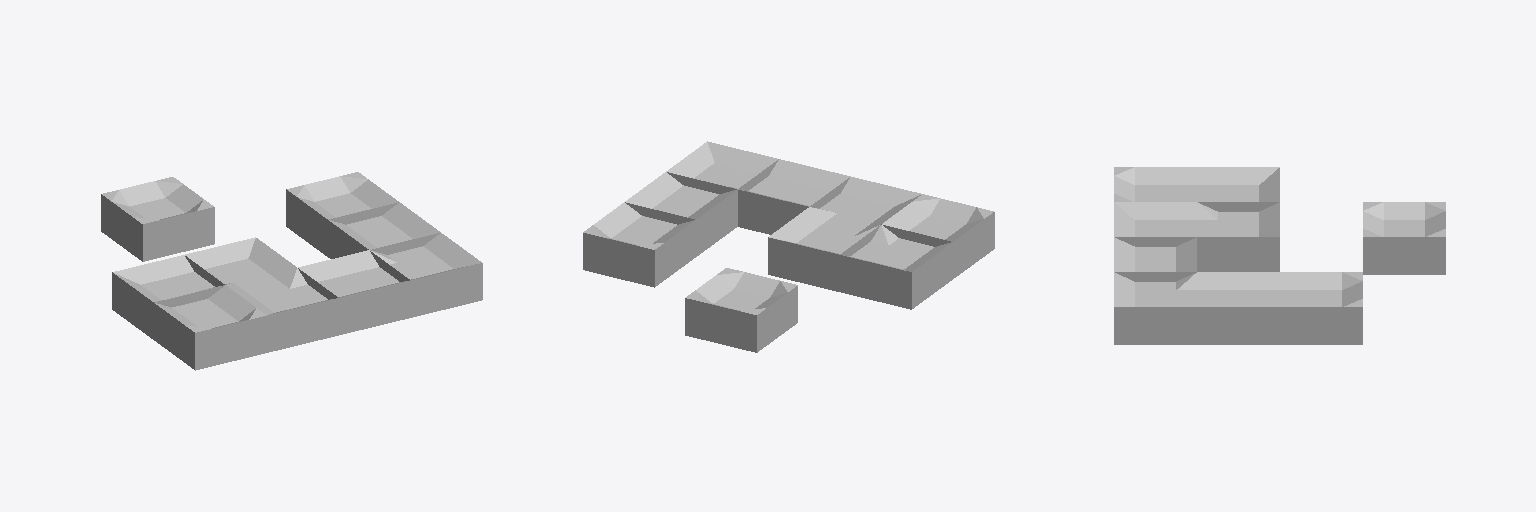
File: 49f_path.obj
The picture shows the model from 3 angles: view 1: azimuth 30°, elevation 25°; view 2: azimuth 150°, elevation 25°; view 3: azimuth 270°, elevation 25°; orthographic projection.
Visible parts, largest first — view 1: foil.hole.1.3_Cube.249, foil.ending.0.0_ending.495, foil.through.2.0_through.262, foil.corner.3.0_corner.1225, foil.corner.1.0_corner.1223, foil.corner.0.1_corner.1222, foil.ending.3.2_ending.496, foil.through.3.1_through.263, foil.corner.1.1_corner.1224; view 2: foil.hole.1.3_Cube.249, foil.corner.0.1_corner.1222, foil.ending.3.2_ending.496, foil.corner.1.1_corner.1224, foil.through.2.0_through.262, foil.through.3.1_through.263, foil.ending.0.0_ending.495, foil.corner.1.0_corner.1223, foil.corner.3.0_corner.1225; view 3: foil.hole.1.3_Cube.249, foil.through.3.1_through.263, foil.ending.3.2_ending.496, foil.corner.1.1_corner.1224, foil.corner.3.0_corner.1225, foil.through.2.0_through.262, foil.corner.1.0_corner.1223, foil.ending.0.0_ending.495, foil.corner.0.1_corner.1222.
Part boxes in pixels (x1,y1,x2,y2): foil.hole.1.3_Cube.249: (101, 177, 214, 261); foil.ending.0.0_ending.495: (154, 285, 266, 370); foil.through.2.0_through.262: (298, 250, 410, 334); foil.corner.3.0_corner.1225: (370, 233, 482, 317); foil.corner.1.0_corner.1223: (226, 268, 338, 352); foil.corner.0.1_corner.1222: (112, 255, 224, 339); foil.ending.3.2_ending.496: (286, 172, 398, 256); foil.through.3.1_through.263: (328, 202, 440, 258); foil.corner.1.1_corner.1224: (185, 237, 296, 289); foil.hole.1.3_Cube.249: (685, 268, 797, 352); foil.corner.0.1_corner.1222: (840, 224, 952, 309); foil.ending.3.2_ending.496: (583, 202, 695, 287); foil.corner.1.1_corner.1224: (768, 207, 880, 291); foil.through.2.0_through.262: (738, 159, 850, 234); foil.through.3.1_through.263: (625, 172, 737, 256); foil.ending.0.0_ending.495: (882, 194, 994, 278); foil.corner.1.0_corner.1223: (810, 177, 921, 228); foil.corner.3.0_corner.1225: (666, 141, 777, 189); foil.hole.1.3_Cube.249: (1363, 202, 1445, 274); foil.through.3.1_through.263: (1197, 272, 1279, 344); foil.ending.3.2_ending.496: (1280, 272, 1362, 344); foil.corner.1.1_corner.1224: (1197, 202, 1279, 271); foil.corner.3.0_corner.1225: (1114, 272, 1196, 344); foil.through.2.0_through.262: (1114, 237, 1196, 281); foil.corner.1.0_corner.1223: (1114, 202, 1196, 246); foil.ending.0.0_ending.495: (1114, 167, 1196, 201); foil.corner.0.1_corner.1222: (1197, 167, 1279, 201).
Bounding box in the file's own units: 8 × 1 × 8.